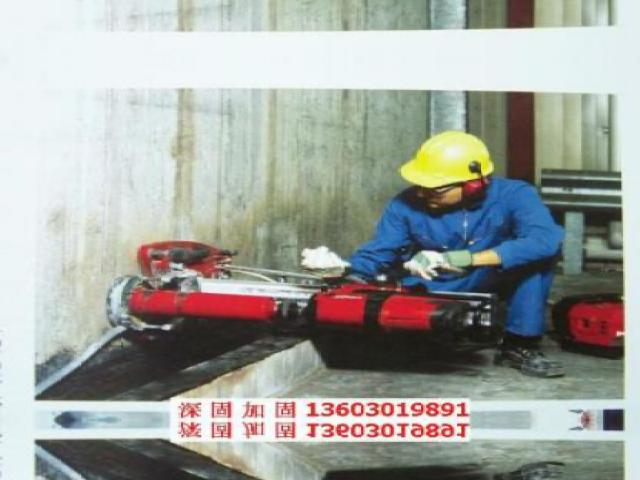Helmet: (392, 124, 496, 198)
